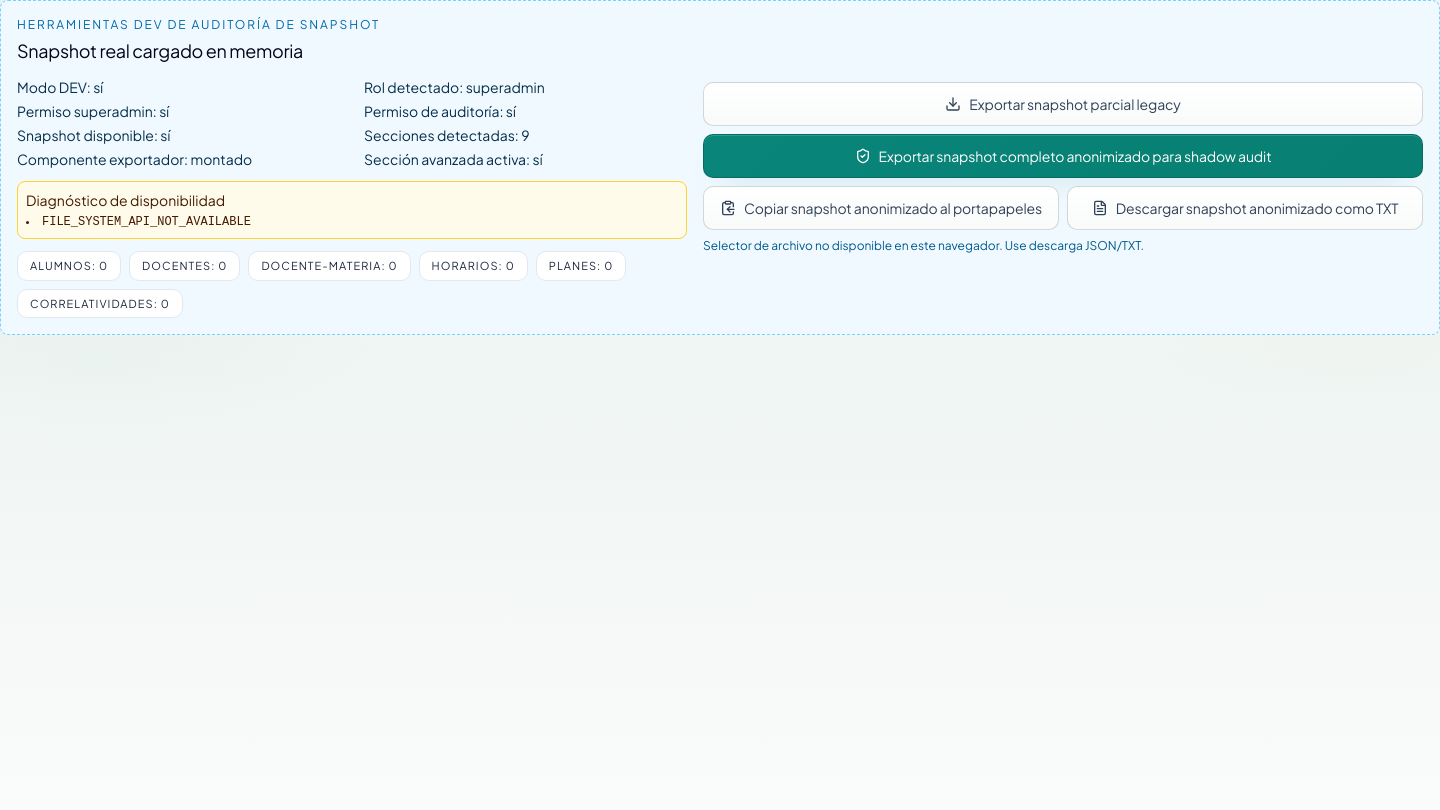
Test: DevAuditSnapshotExport › copia el mismo snapshot anonimizado al portapapeles
Step 1. Click the button "Copiar snapshot anonimizado al portapapeles" → x=881, y=208, box [703,186,1059,230]
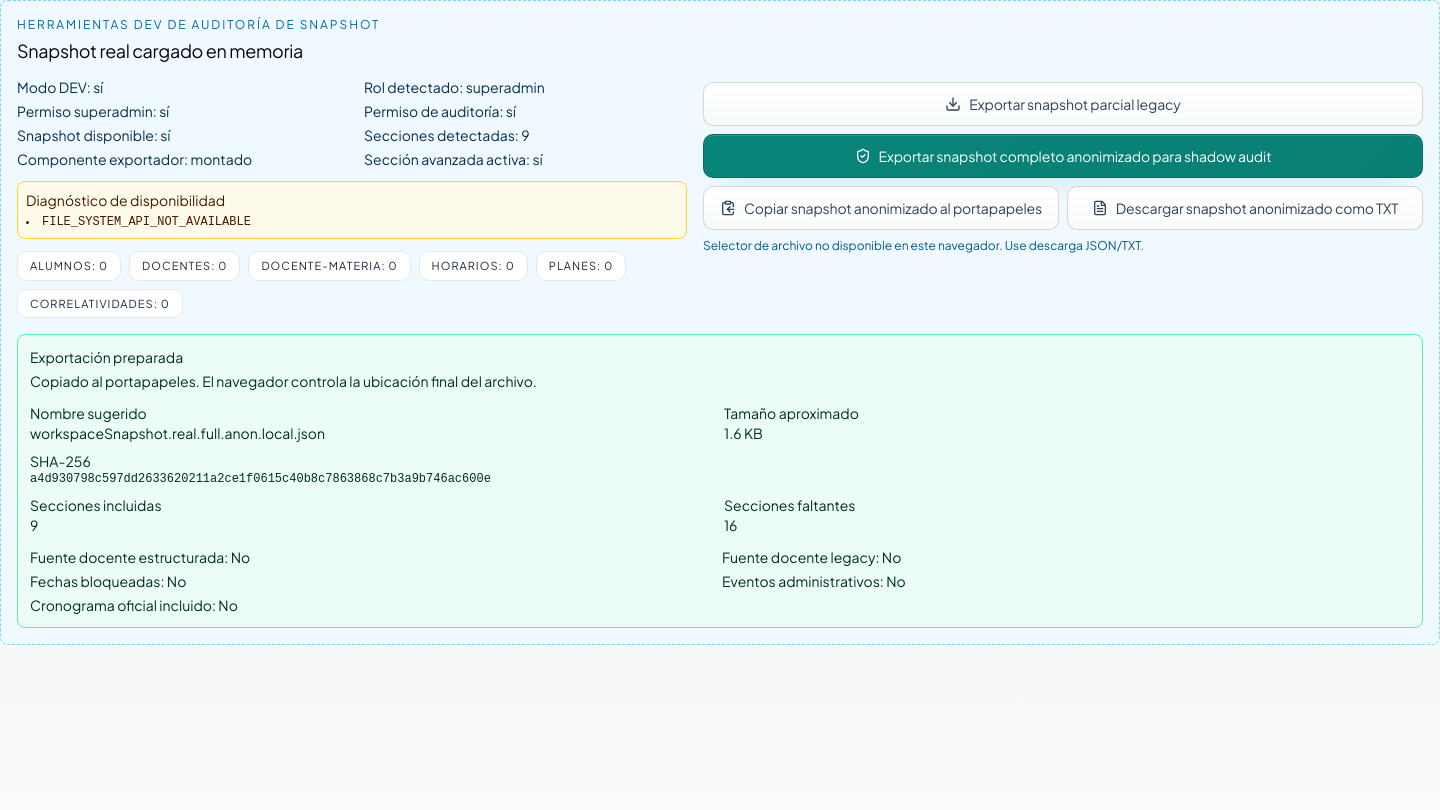
Check: the text "Copiado al portapapeles. El navegador controla la ubicación final del archivo." is shown, box [30,372,537,390]
